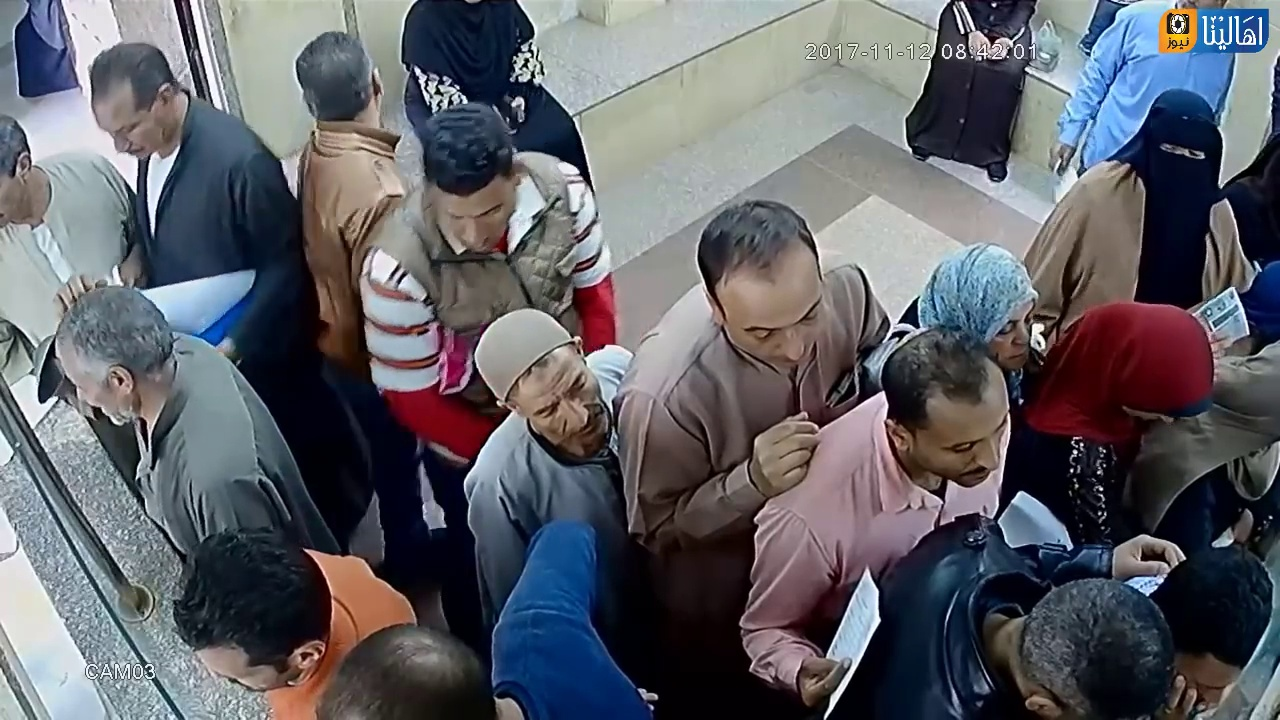face: (515, 370, 614, 450), (434, 178, 524, 262), (930, 404, 1010, 490), (735, 299, 827, 370), (98, 96, 168, 165), (989, 301, 1045, 373), (1156, 123, 1217, 184)
